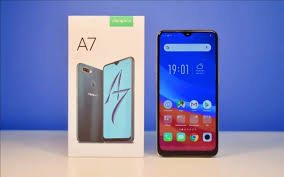oppo: (155, 27, 220, 161)
